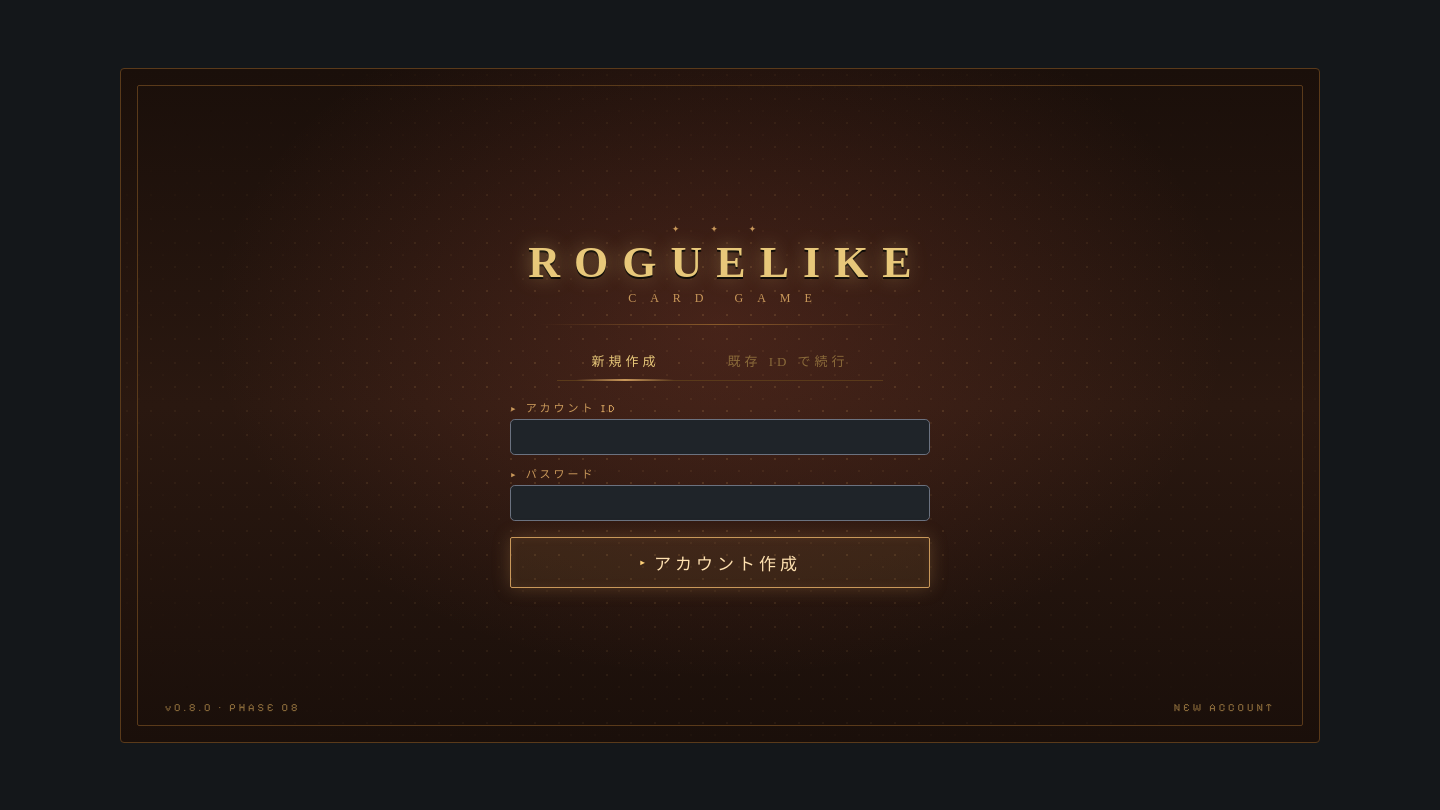
it: LoginScreen › shows not-found message on 404 existing flow
Click the tab "既存 ID で続行" at (788, 361), box x1=693 y1=342 x2=883 y2=380
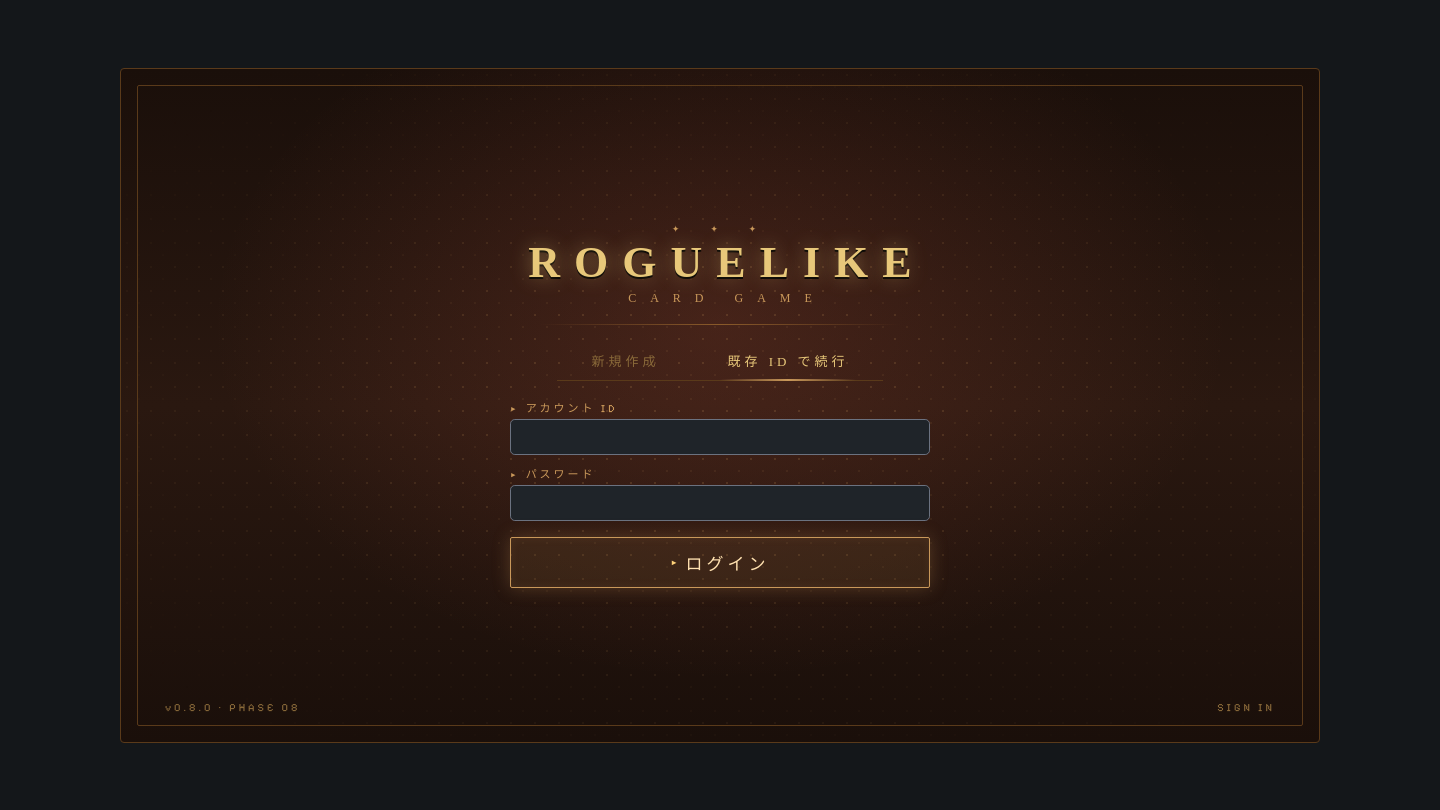
Type "ghost" into the field named "アカウント ID" at (720, 436), box x1=510 y1=418 x2=930 y2=454
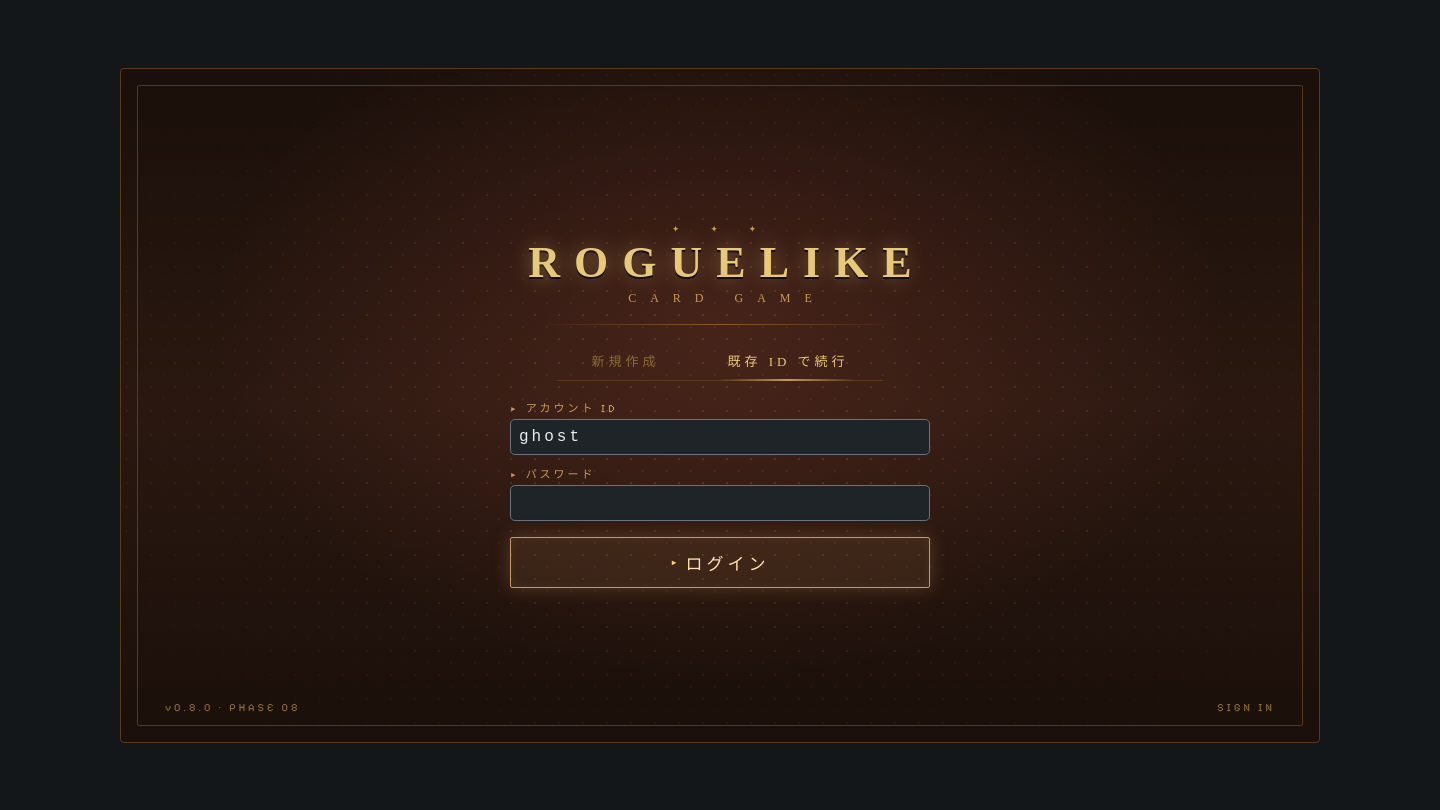
Click the button "▸ ログイン" at (720, 562), box x1=510 y1=536 x2=930 y2=588
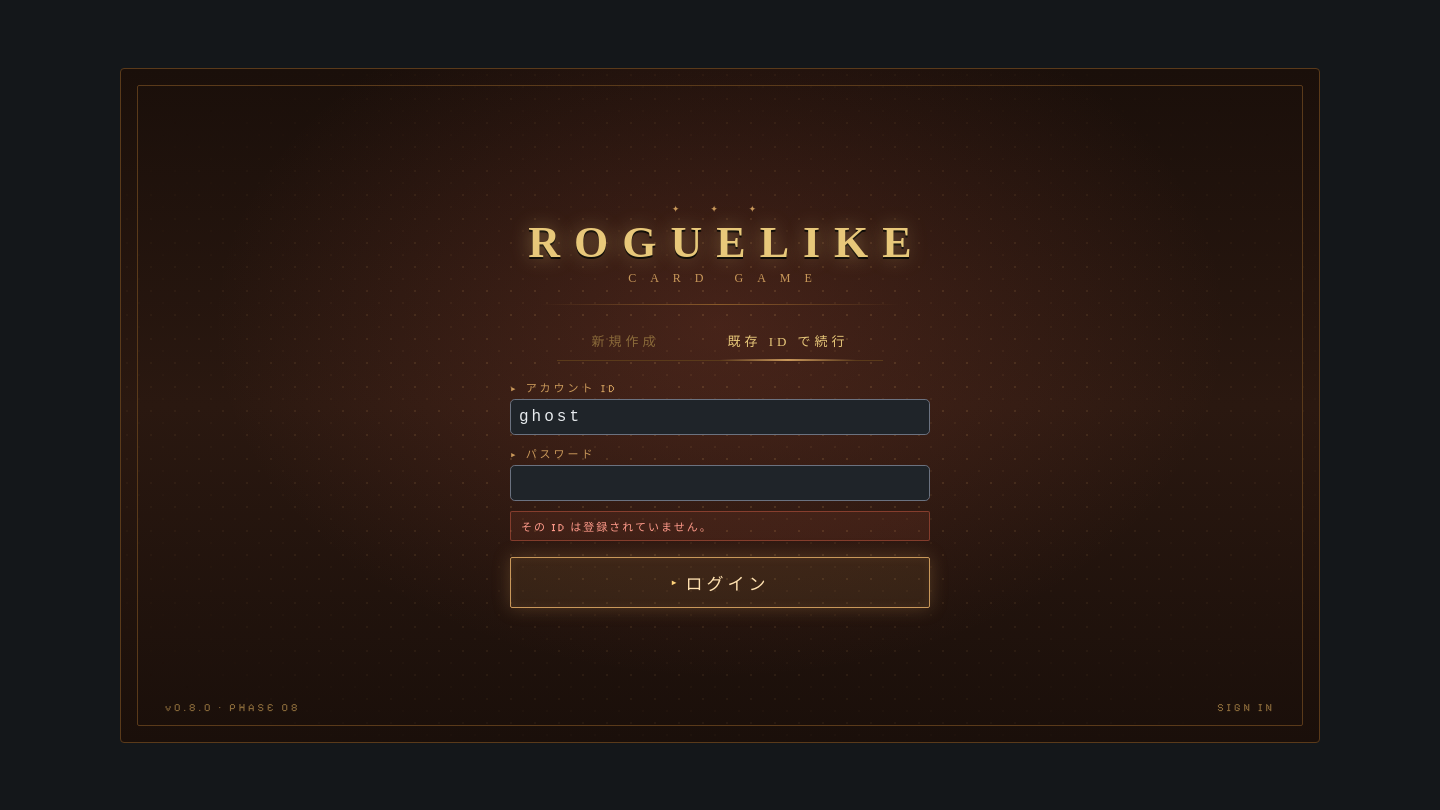
Expected: the text "その ID は登録されていません。" is shown, x1=510 y1=510 x2=930 y2=540
